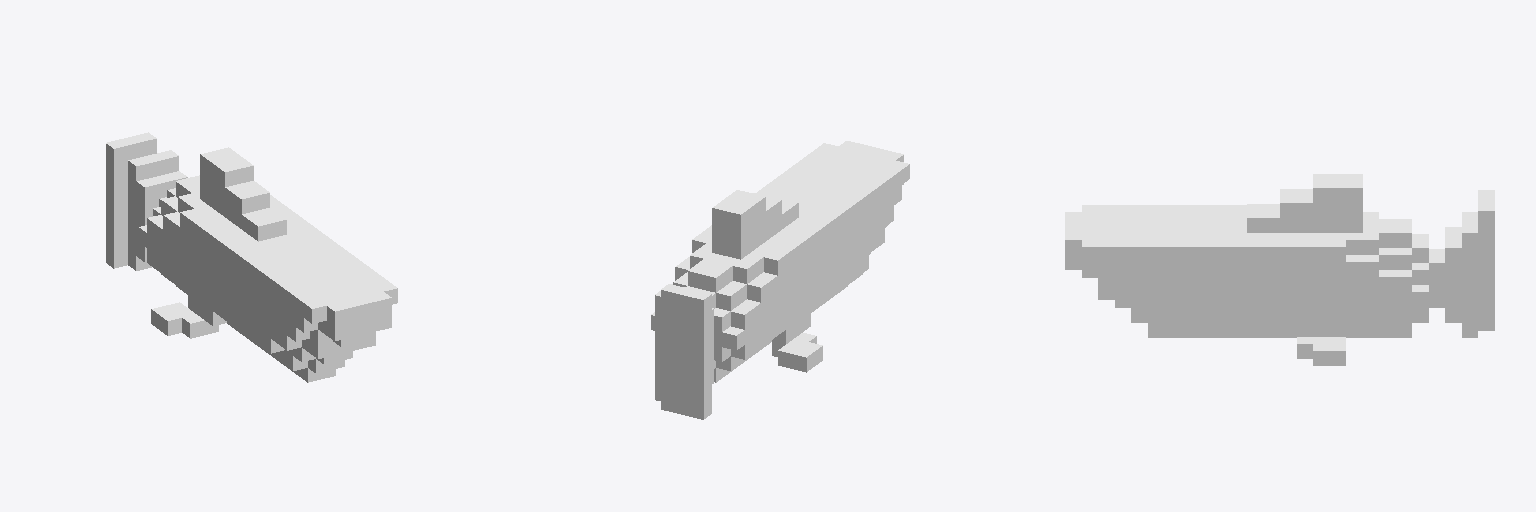
The model's file is Shark2.obj.
3 views of the same model, side by side, from view 1: azimuth 30°, elevation 25°; view 2: azimuth 150°, elevation 25°; view 3: azimuth 270°, elevation 25° (orthographic).
Visible parts, largest first — view 1: object 1; view 2: object 1; view 3: object 1.
Part boxes in pixels (x1,y1,x2,y2): object 1: (106, 132, 397, 382); object 1: (651, 141, 909, 419); object 1: (1065, 174, 1494, 365).
Bounding box in the file's own units: 1 × 1 × 2.6.